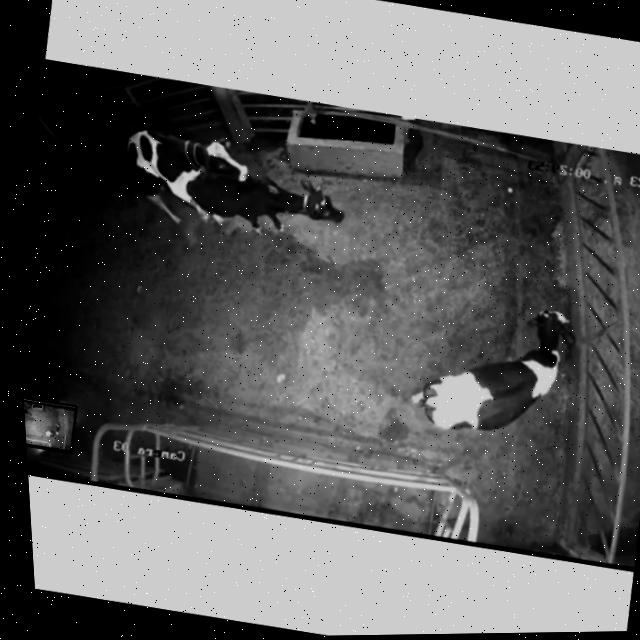ride: (103, 105, 261, 246)
